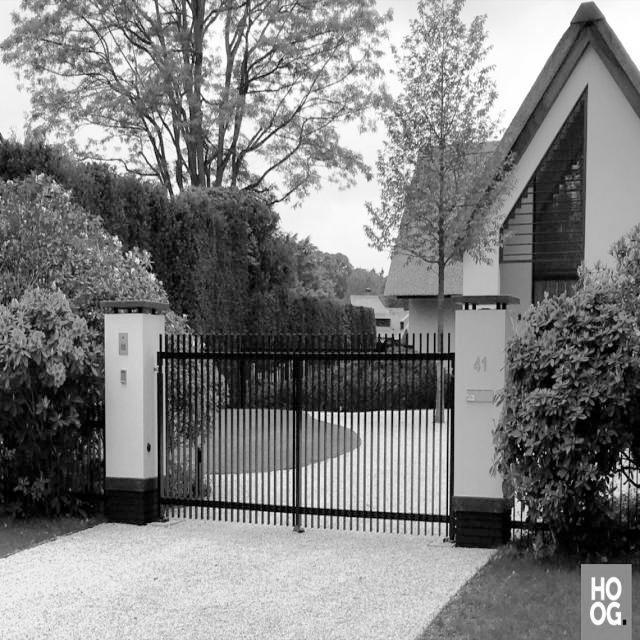fences: (168, 331, 450, 543)
